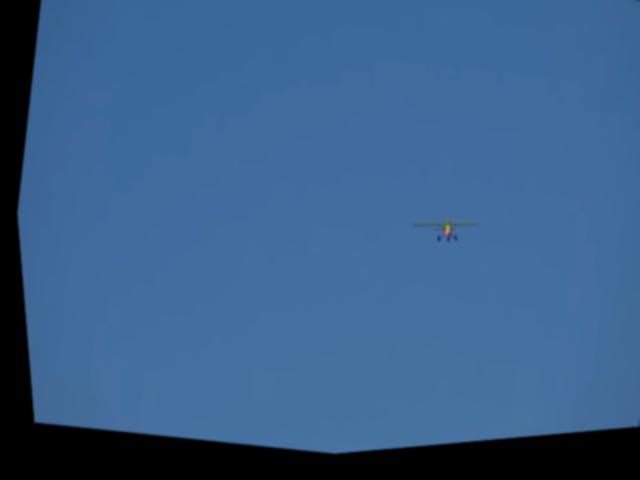plane: (405, 214, 480, 258)
